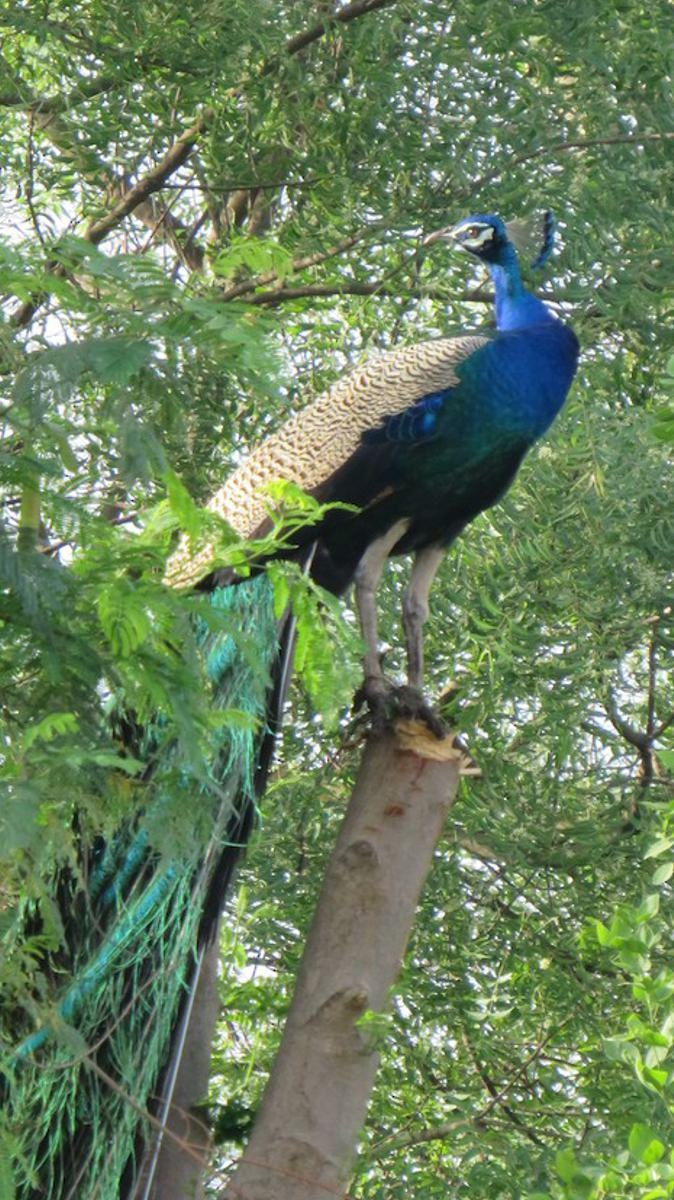peacock: (1, 188, 580, 1109)
